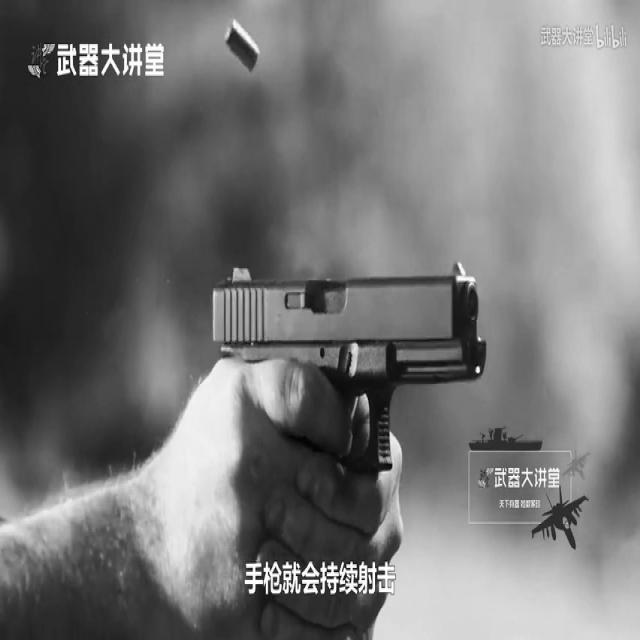Hand-Gun: (190, 184, 518, 640)
